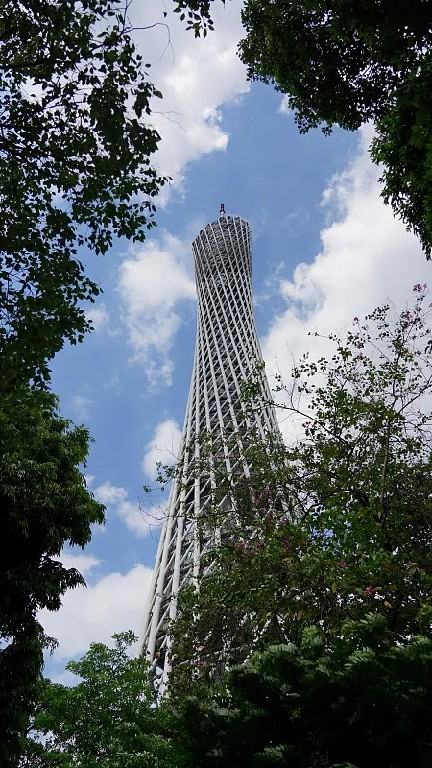Canton: (138, 201, 307, 710)
